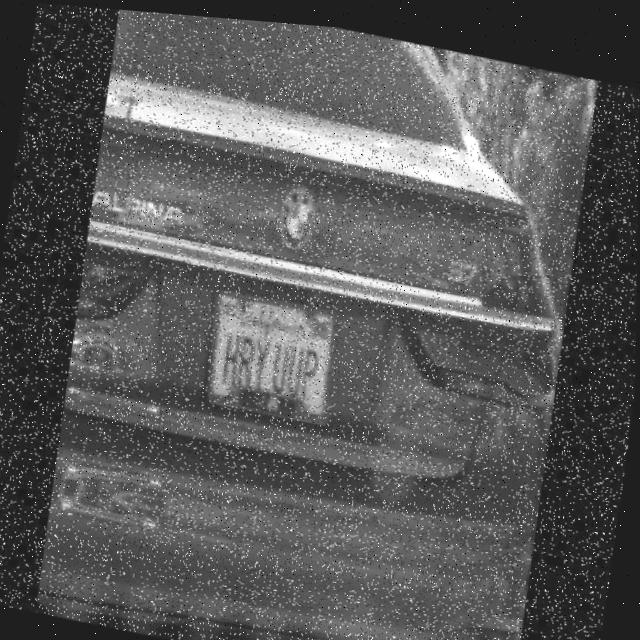LicensePlate: (206, 288, 343, 421)
